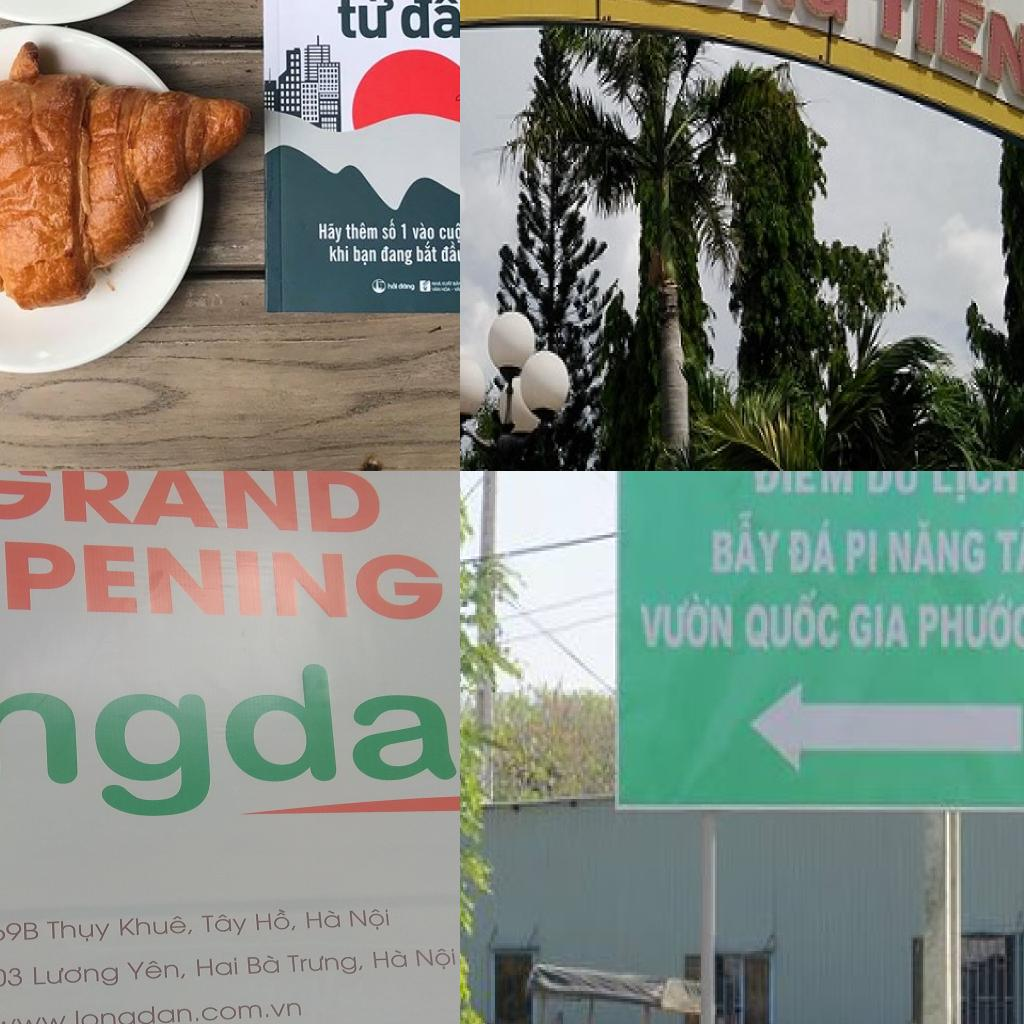text: (0, 580, 214, 837), (0, 538, 445, 619), (217, 657, 460, 783), (0, 471, 386, 535), (0, 997, 304, 1024), (636, 0, 853, 34), (917, 588, 1024, 652), (745, 588, 841, 655), (637, 591, 735, 652), (885, 522, 987, 578), (709, 511, 783, 578), (785, 516, 839, 578), (849, 602, 911, 652), (931, 471, 1019, 505), (753, 471, 855, 497), (333, 0, 395, 41), (401, 0, 460, 39), (32, 963, 120, 989), (997, 508, 1024, 577), (843, 527, 879, 578), (288, 953, 366, 975), (118, 915, 194, 937), (46, 920, 112, 944), (865, 471, 921, 497), (124, 959, 188, 981), (200, 912, 252, 936), (254, 908, 299, 931), (348, 908, 392, 931), (415, 948, 460, 969), (194, 956, 240, 976), (303, 909, 342, 930), (380, 245, 414, 269), (0, 921, 38, 942), (372, 949, 410, 970), (345, 220, 380, 241), (317, 222, 345, 245), (247, 956, 281, 974), (353, 245, 379, 268), (416, 239, 439, 263), (0, 964, 24, 987), (411, 219, 435, 241), (438, 220, 460, 243), (440, 238, 460, 263), (328, 245, 351, 263), (382, 218, 399, 241), (397, 281, 418, 293), (400, 220, 409, 243), (386, 281, 400, 290), (440, 280, 454, 287), (431, 279, 443, 287), (452, 280, 460, 287)
